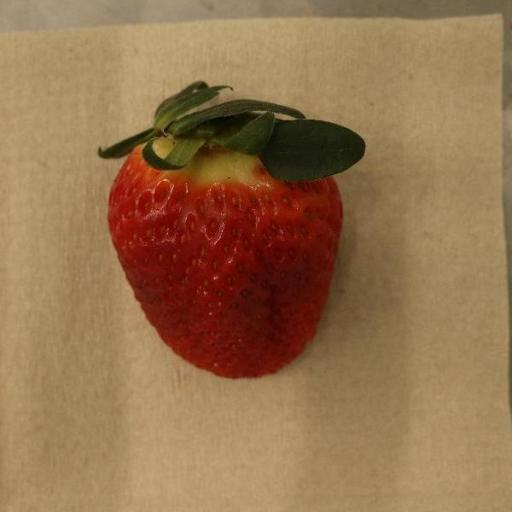Strawberry: (98, 81, 368, 381)
